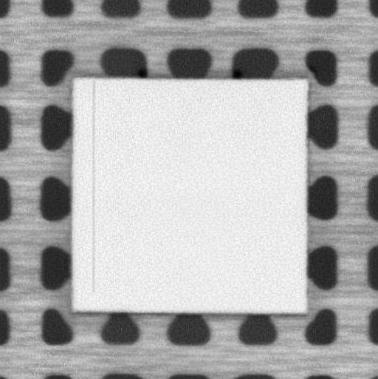DIE_CRACK: (85, 82, 100, 293)
